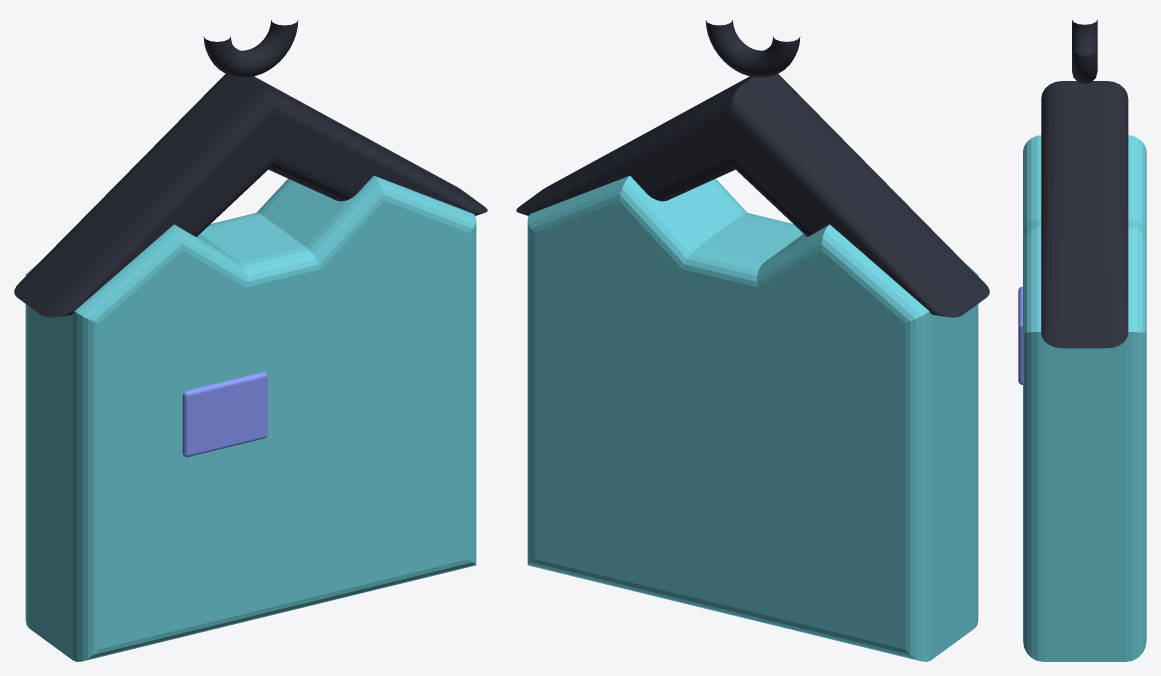
Rendered from wardrobe.glb.
3 renders of one model, left to right at view 1: azimuth 30°, elevation 25°; view 2: azimuth 150°, elevation 25°; view 3: azimuth 270°, elevation 25°, orthographic. The views are drawn at different scales.
Bounding box in the file's own units: 1.1 × 1.35 × 0.2933.
